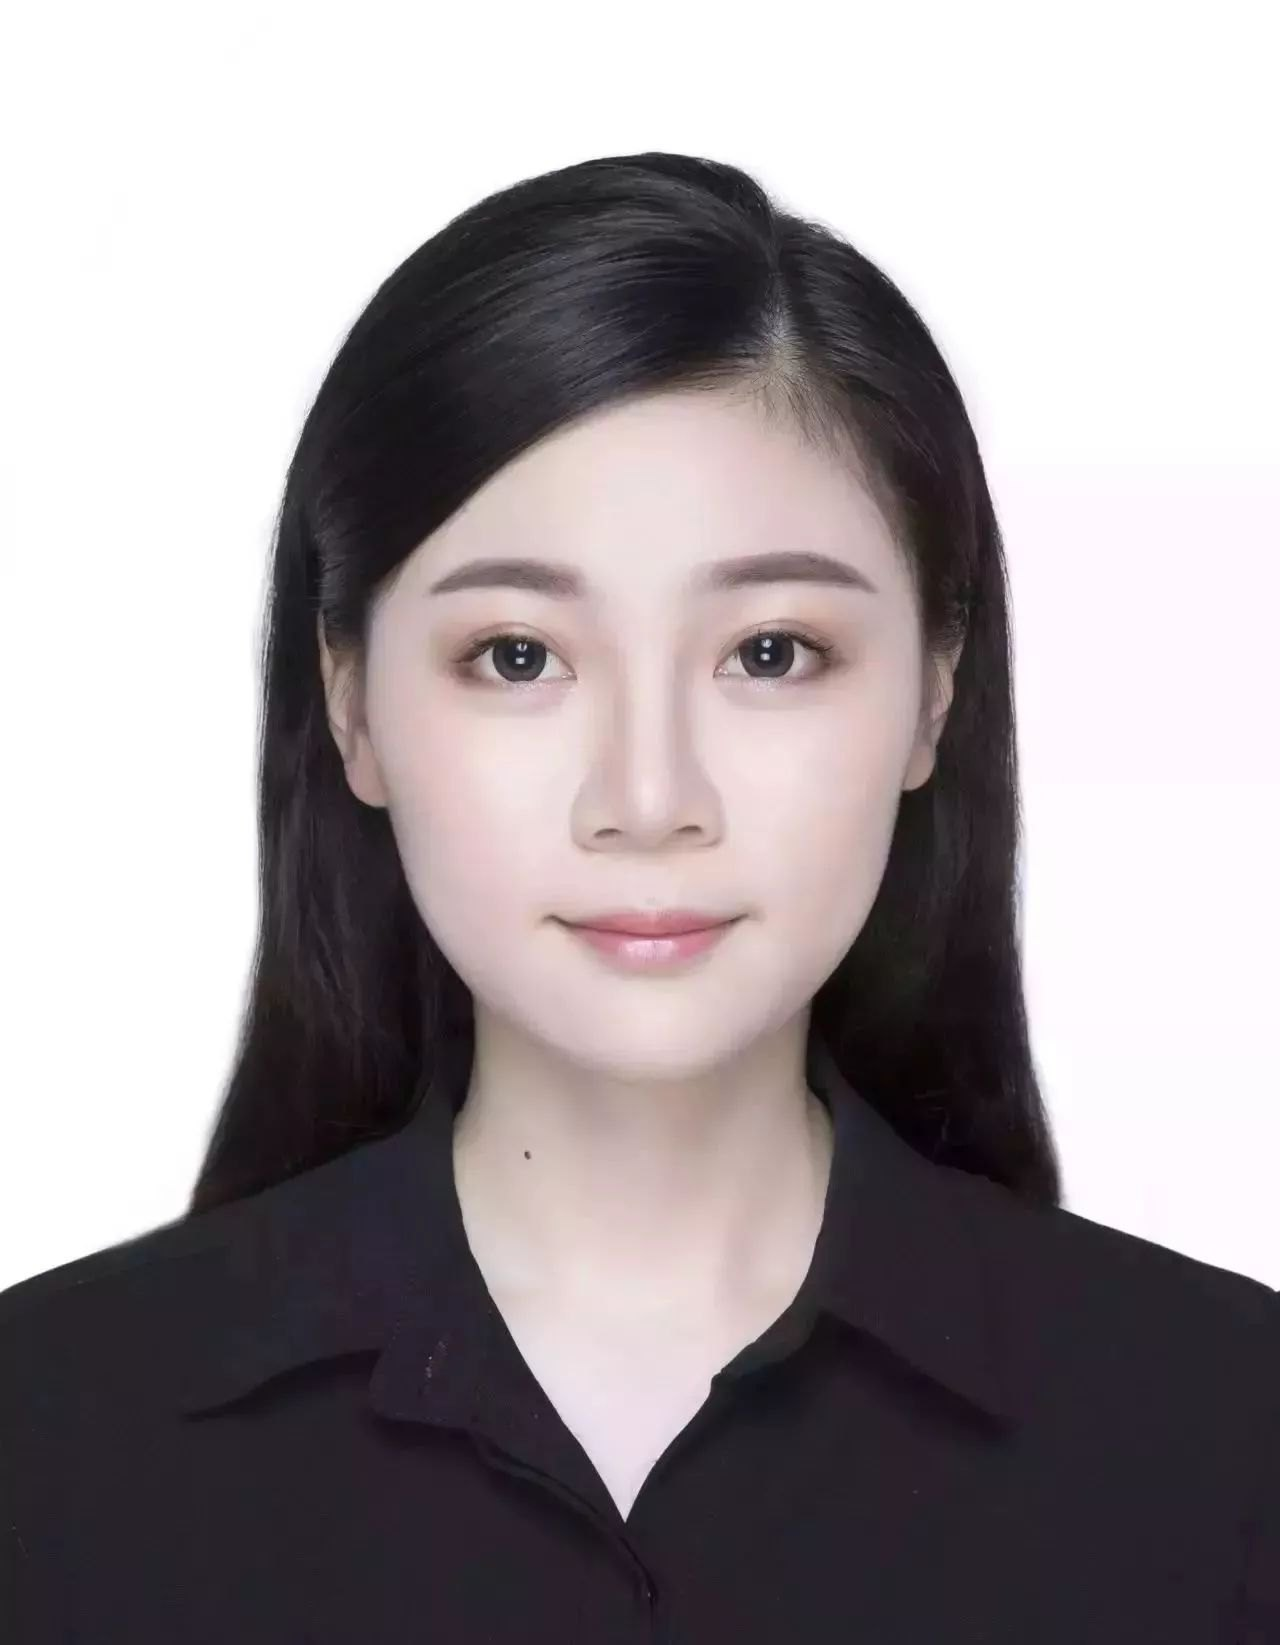unmask: (360, 427, 927, 1040)
